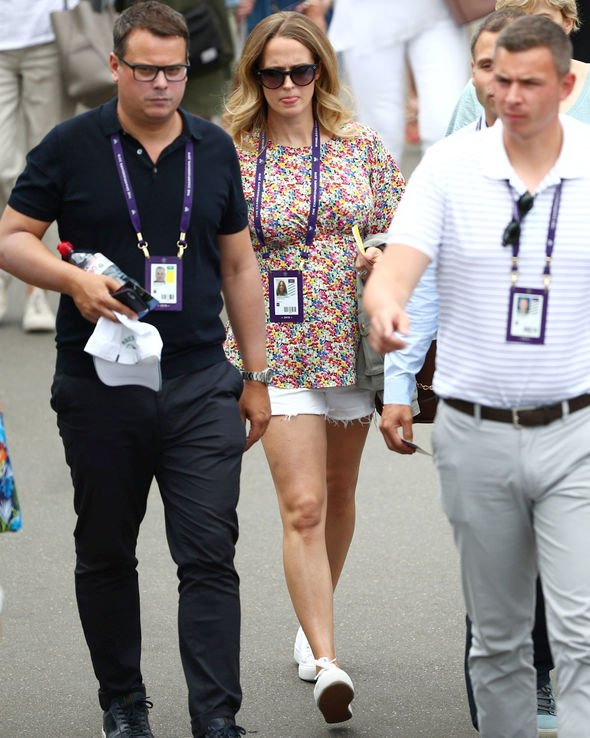Person: (2, 4, 249, 738), (429, 15, 590, 738), (239, 9, 377, 721)
